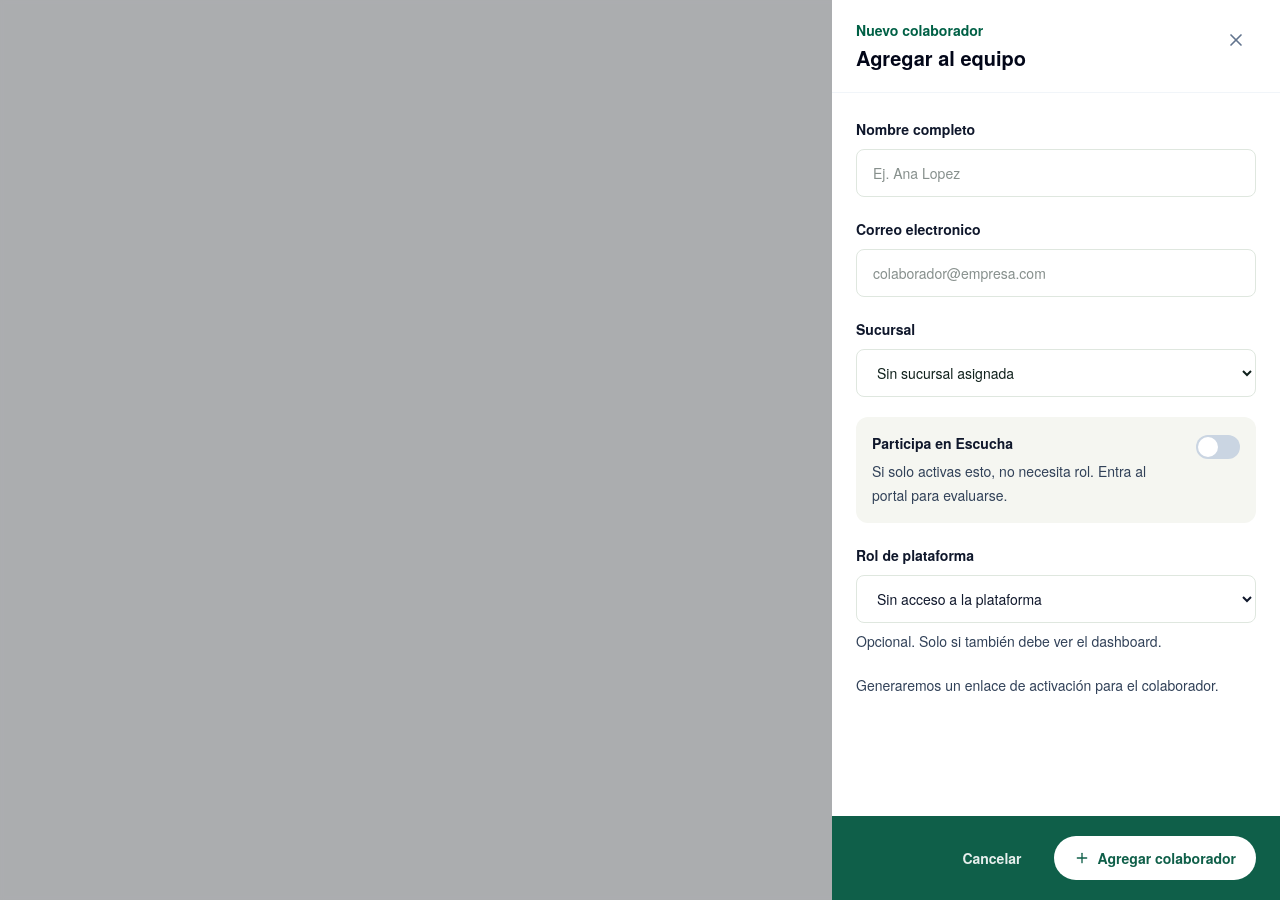
AddTeamMemberDrawer › confirms that the activation email was sent
Type "Ana Lopez" into the field labelled "Nombre completo". click: (1056, 173)
box: [856,149,1256,197]
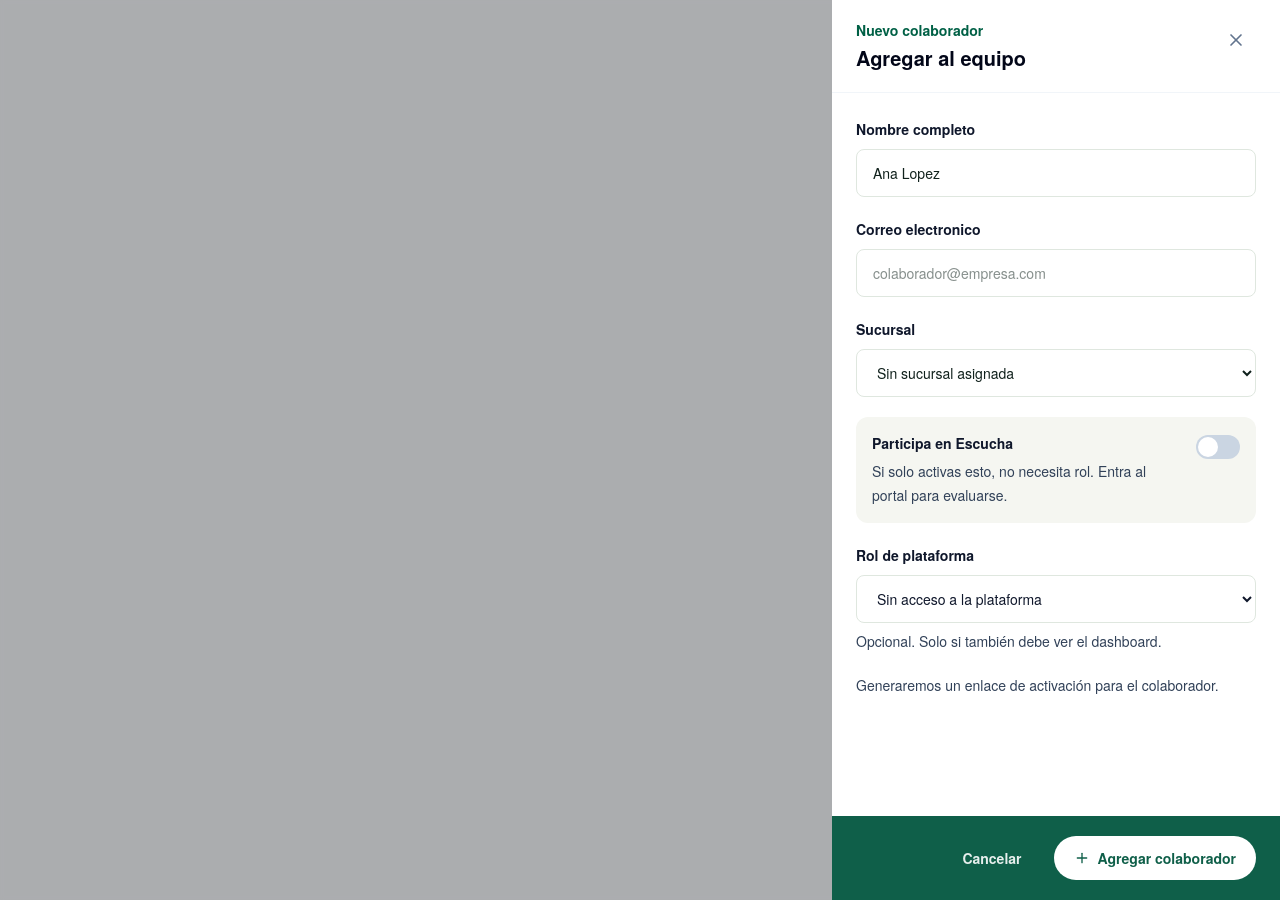
Type "ana@empresa.com" into the field labelled "Correo electronico". click: (1056, 273)
box: [856,249,1256,297]
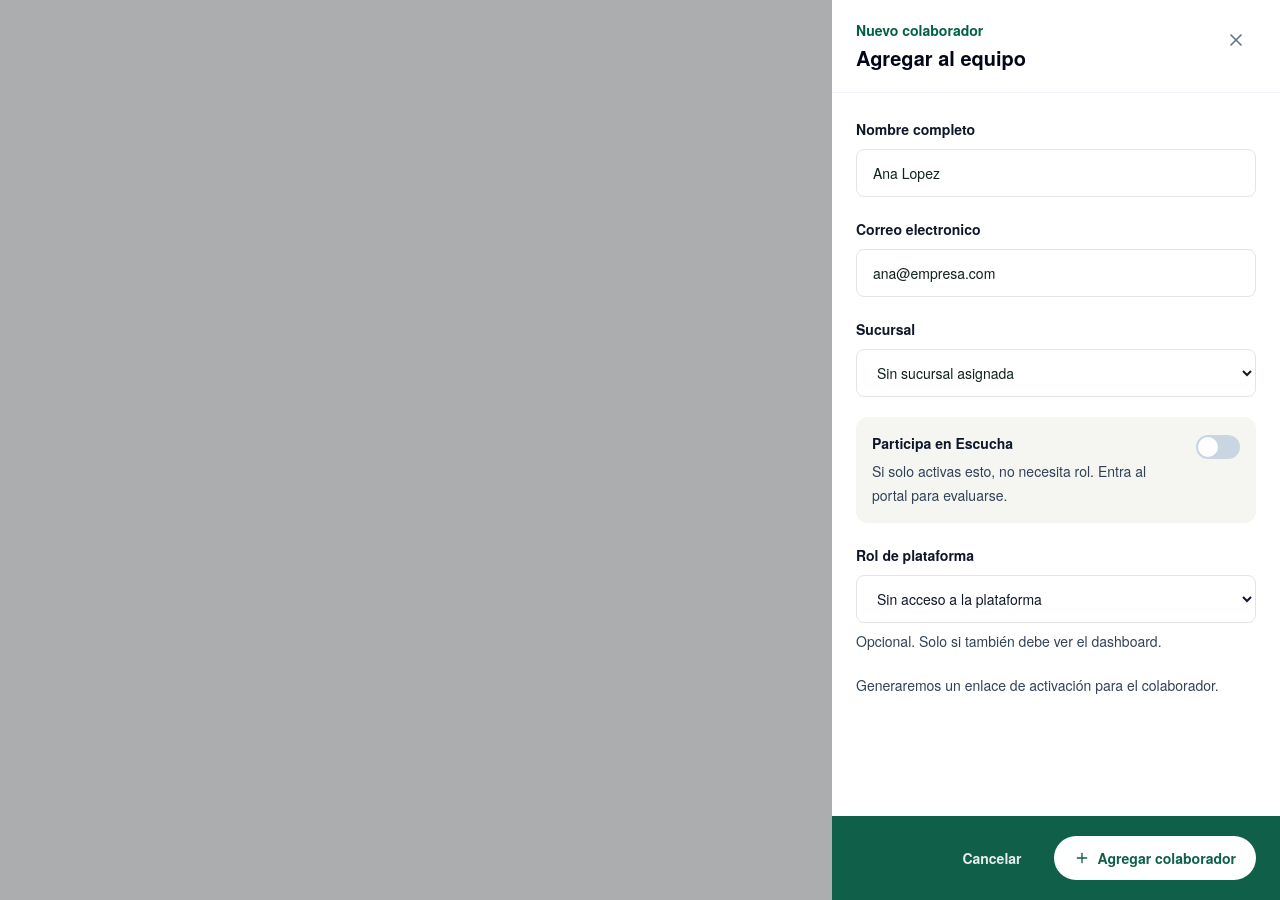
Click the switch named "participa en escucha". click: click(1218, 447)
box: [1196,435,1240,459]
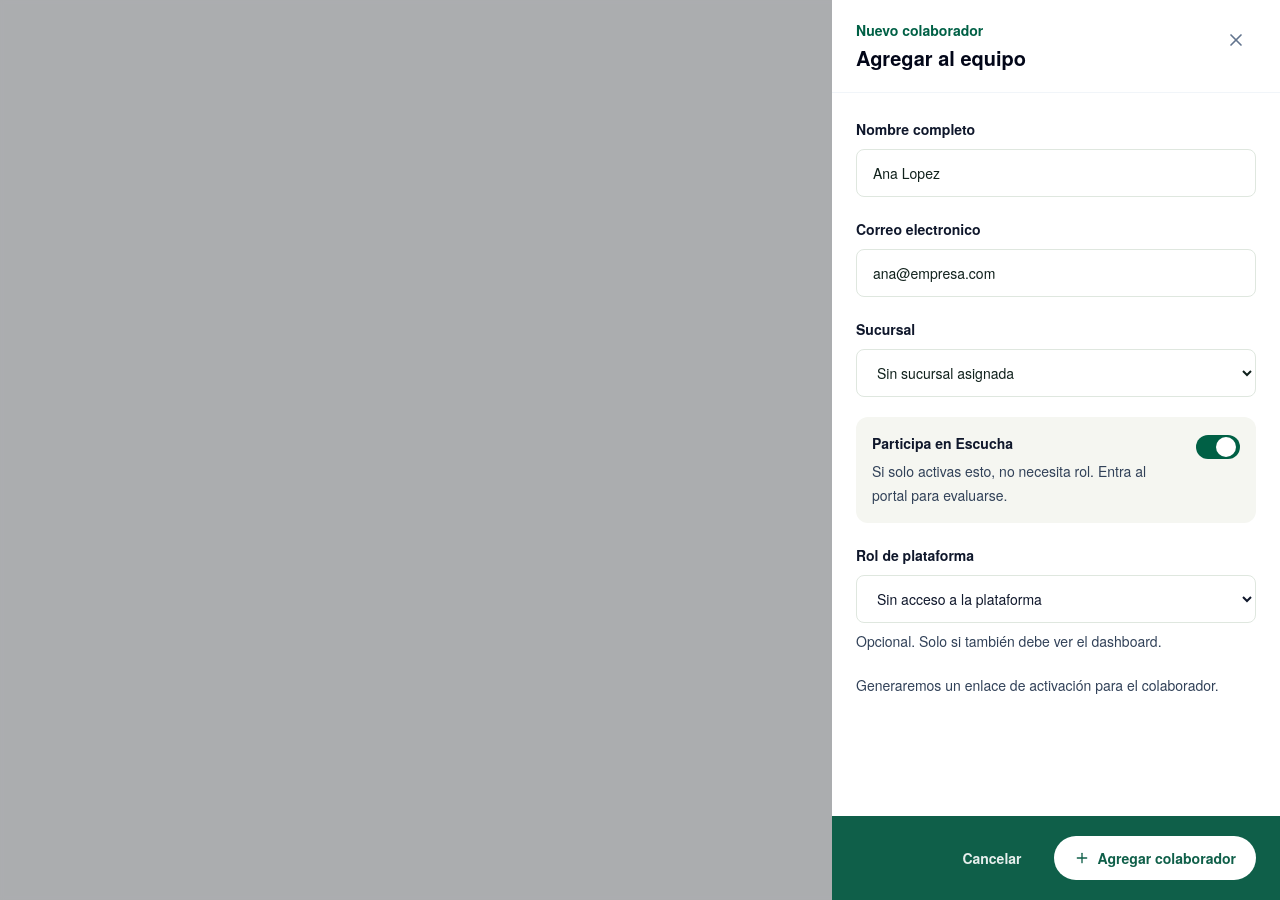
Click the button "Agregar colaborador". click: click(1155, 858)
box: [1054,836,1256,880]
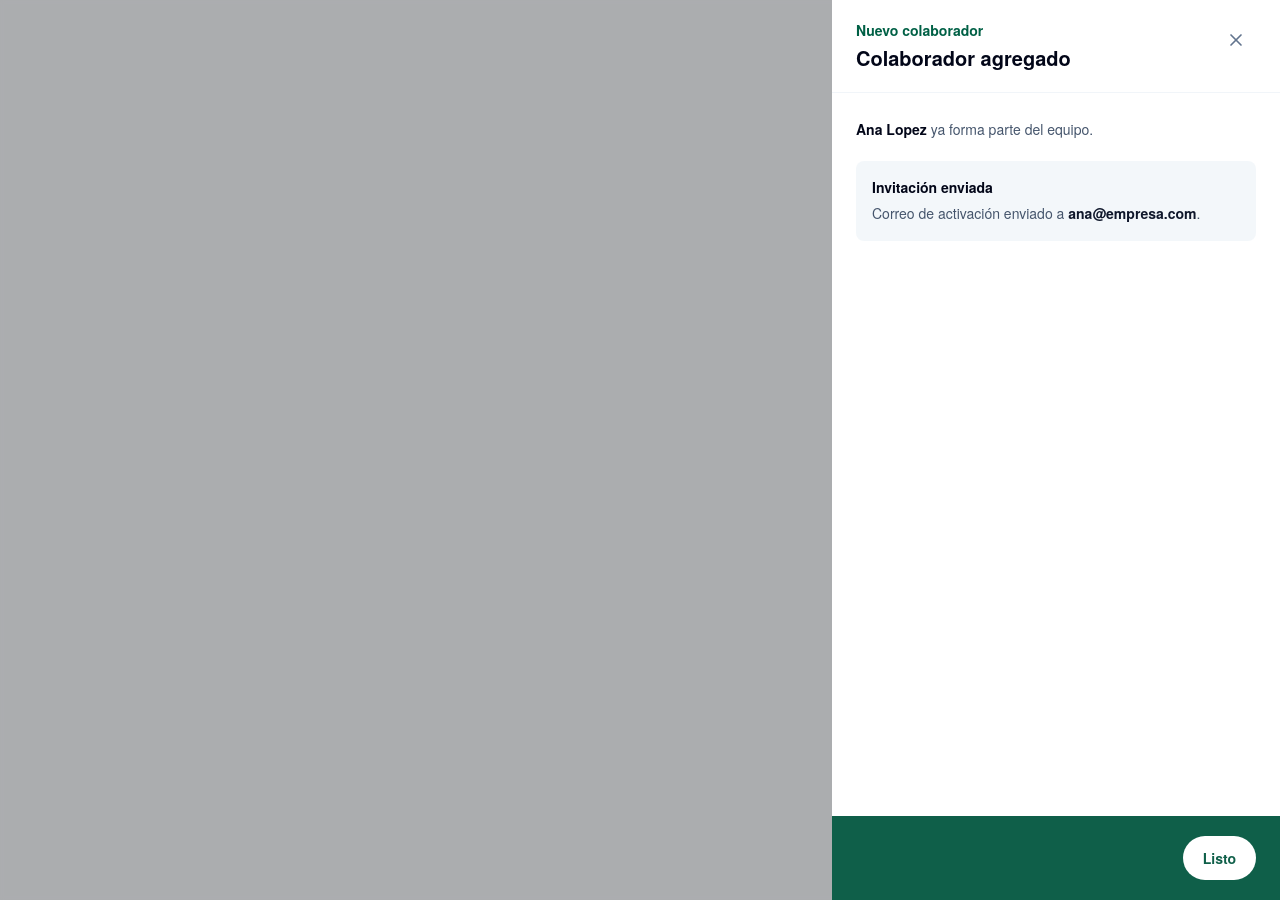
Check: the text "Invitación enviada" is shown, box [872,177,993,197]
